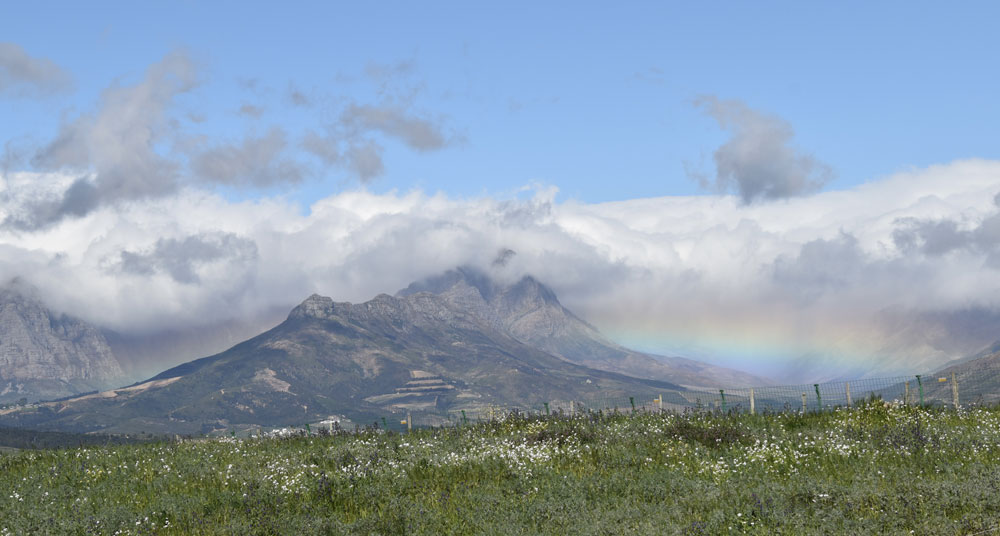Stratus: (18, 154, 1000, 323)
